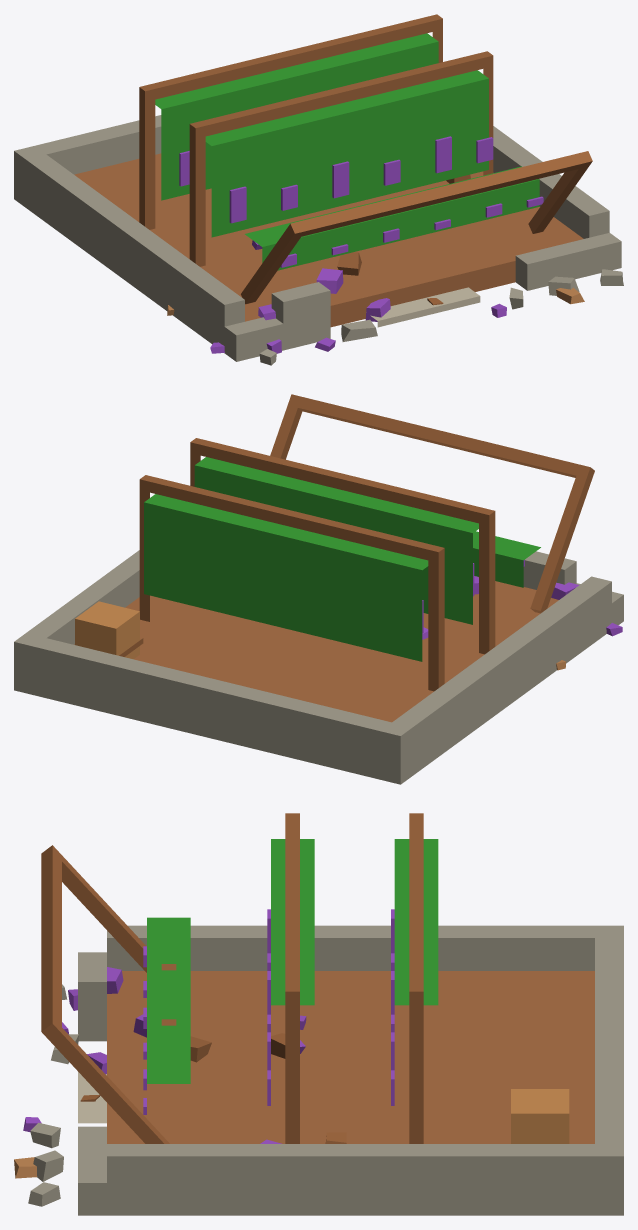
Rendered from field_t3_v4_dmg1.glb.
3 renders of one model, top to bottom at view 1: azimuth 30°, elevation 25°; view 2: azimuth 150°, elevation 25°; view 3: azimuth 270°, elevation 25°, orthographic. The views are drawn at different scales.
Parts seen in each view (by area): view 1: field_t3_v4_dmg1; view 2: field_t3_v4_dmg1; view 3: field_t3_v4_dmg1.
Boxes of the visible parts, <box> form: field_t3_v4_dmg1: <box>14,14,623,365</box>; field_t3_v4_dmg1: <box>14,394,623,784</box>; field_t3_v4_dmg1: <box>14,813,623,1215</box>.
Bounding box in the file's own units: 0.7743 × 0.3 × 0.8378.
Materials: 1 (1 with a texture image).
